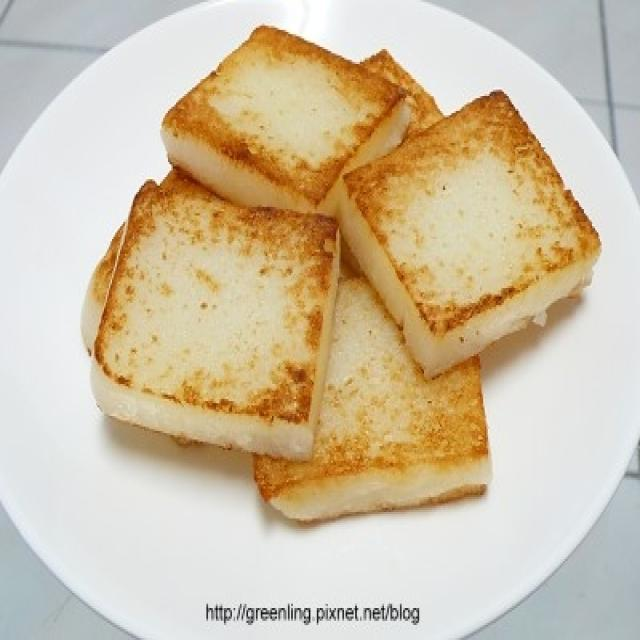蛋糕甜品: (45, 15, 613, 591)
